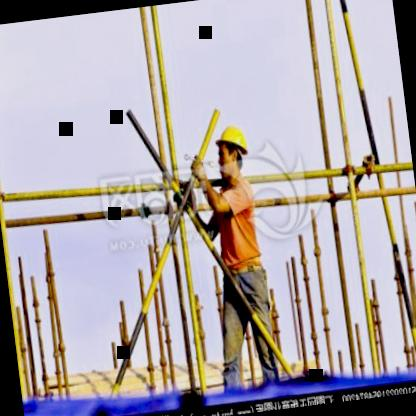helmet: (212, 115, 254, 188)
